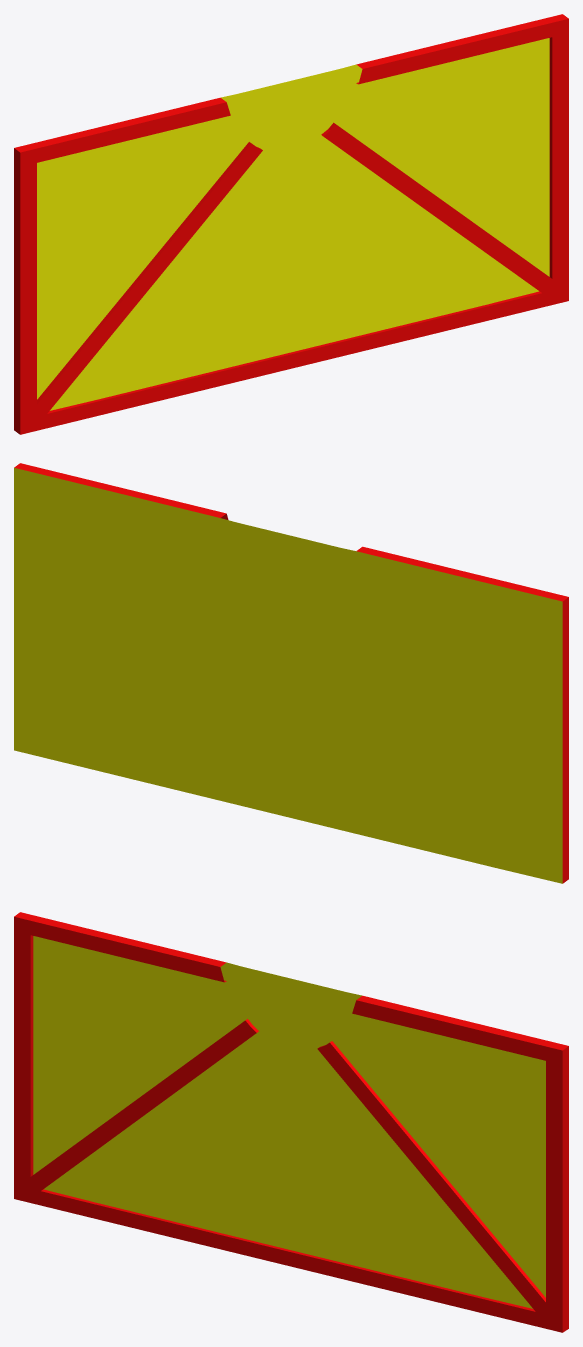
Rendered from Puerta_abajo.fbx.
The picture shows the model from 3 angles, top to bottom: view 1: azimuth 30°, elevation 25°; view 2: azimuth 150°, elevation 25°; view 3: azimuth 330°, elevation 25°; orthographic projection.
Visible parts, largest first — view 1: PuertaArriba; view 2: PuertaArriba; view 3: PuertaArriba.
Part boxes in pixels (x1,y1,x2,y2): PuertaArriba: (14, 14, 568, 434); PuertaArriba: (14, 463, 568, 883); PuertaArriba: (14, 912, 568, 1332).
Size of the model in its own units: 114 by 56.26 by 2.26.
